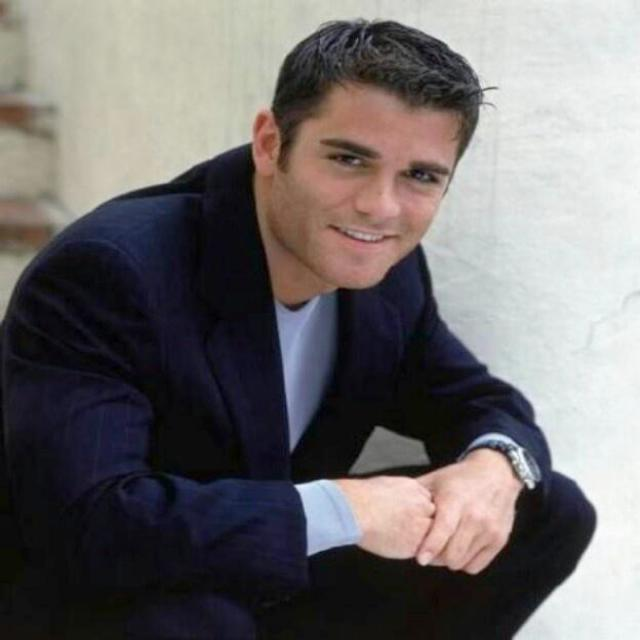Face: (264, 15, 475, 297)
